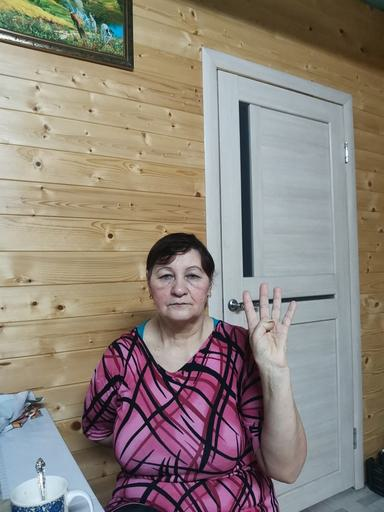four: (241, 281, 298, 367)
